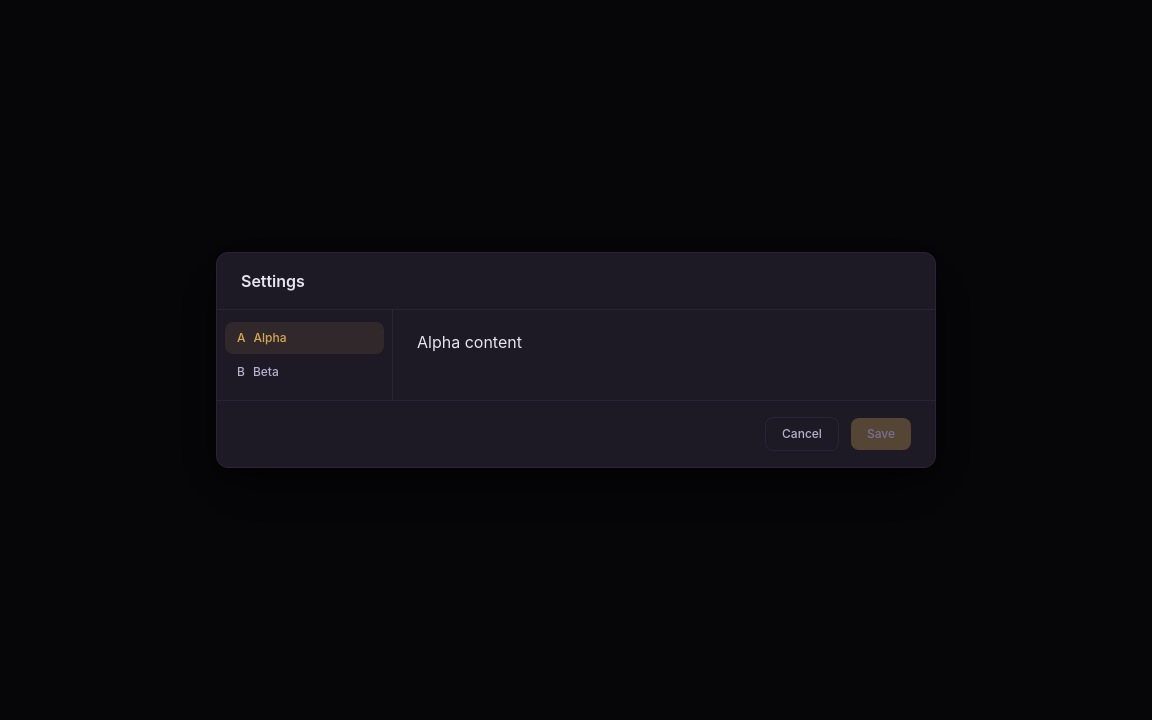
ProjectConfigModal › clicking a rail item switches the active pane
Click the button with test id "config-rail-item-beta": point(304, 372) [225,356,384,388]
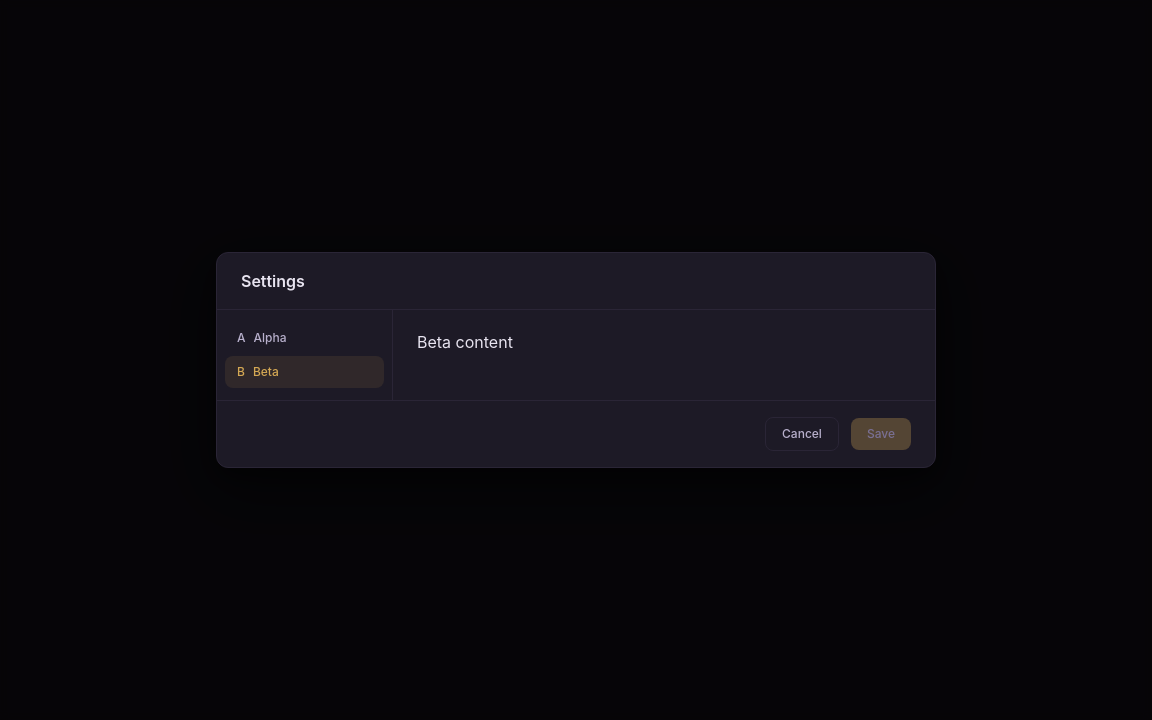
Expected: the text "Beta content" is shown, [417,332,513,352]
